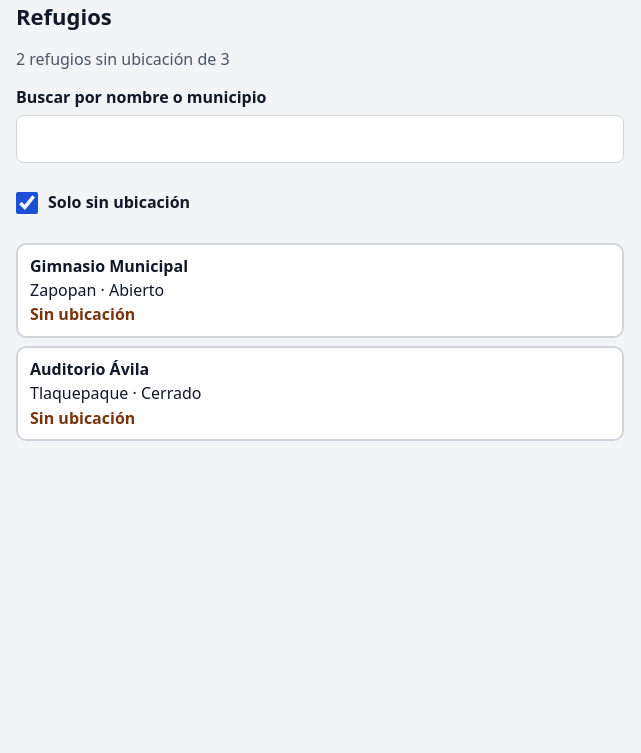
it: AdministrarRefugios › no deja guardar una ocupación inválida
The image size is (641, 753).
Click the button "Gimnasio Municipal Zapopan · Abierto Sin ubicación".
click(109, 266)  # box 16,243 -> 624,338
(page scrolled)
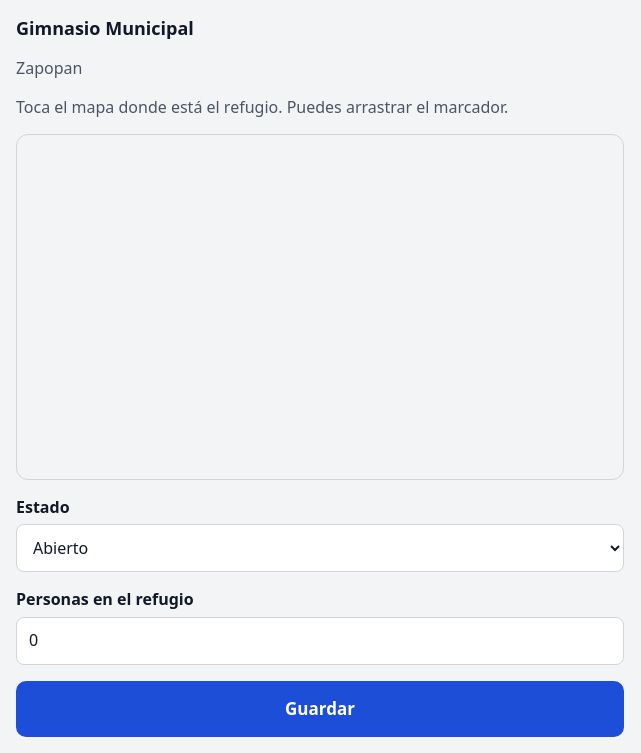
Clear the number field labelled "Personas en el refugio" at [320, 640], box 16,616 -> 624,664
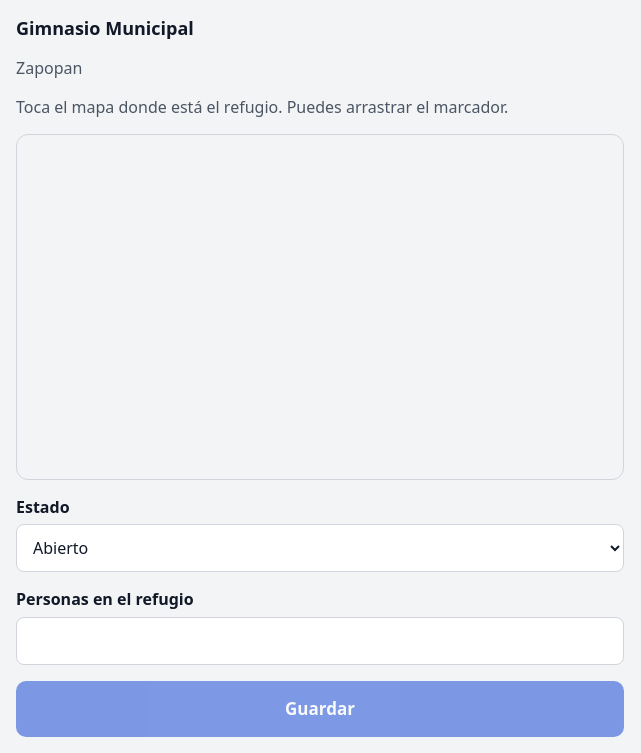
Now the button "Guardar" is disabled, box 16,680 -> 624,736
